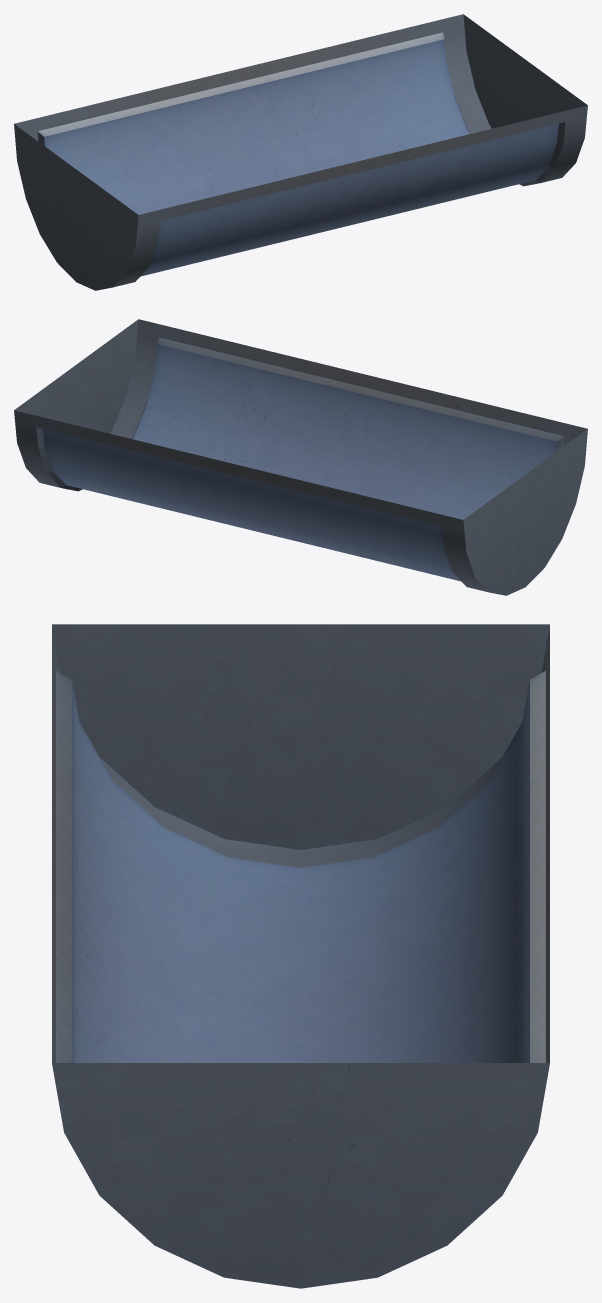
File: ElevatorLight.fbx
3 renders of one model, top to bottom at view 1: azimuth 30°, elevation 25°; view 2: azimuth 150°, elevation 25°; view 3: azimuth 270°, elevation 25°, orthographic. The views are drawn at different scales.
Visible parts, largest first — view 1: pCylinder8; view 2: pCylinder8; view 3: pCylinder8.
Boxes of the visible parts, left/top/right/bottom form: pCylinder8: left=14, top=14, right=587, bottom=290; pCylinder8: left=14, top=319, right=587, bottom=595; pCylinder8: left=52, top=624, right=549, bottom=1288.
Size of the model in its own units: 100 by 24 by 48.
1 material, 1 textured.
